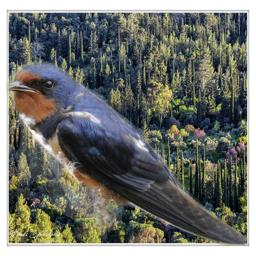Swallow: (5, 61, 249, 246)
